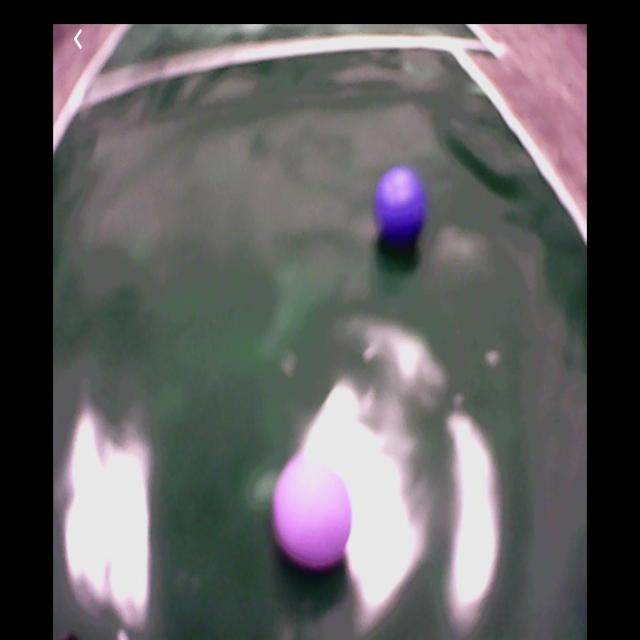ball: (275, 460, 353, 571), (374, 168, 429, 255)
